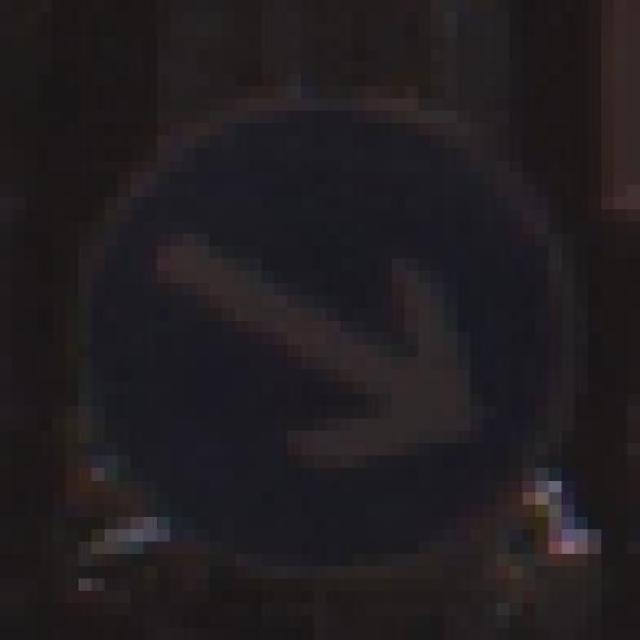Keep-Right: (39, 99, 601, 578)
